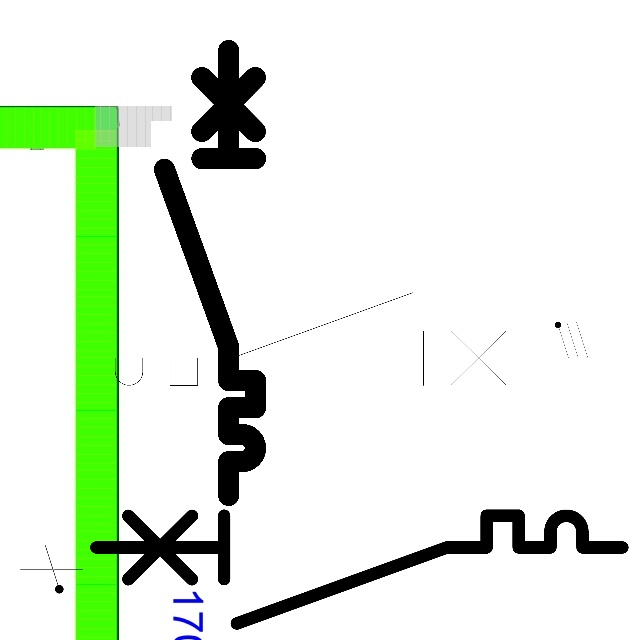interruptor_termomagnetico: (82, 502, 636, 637), (69, 281, 545, 397), (153, 39, 267, 507)
